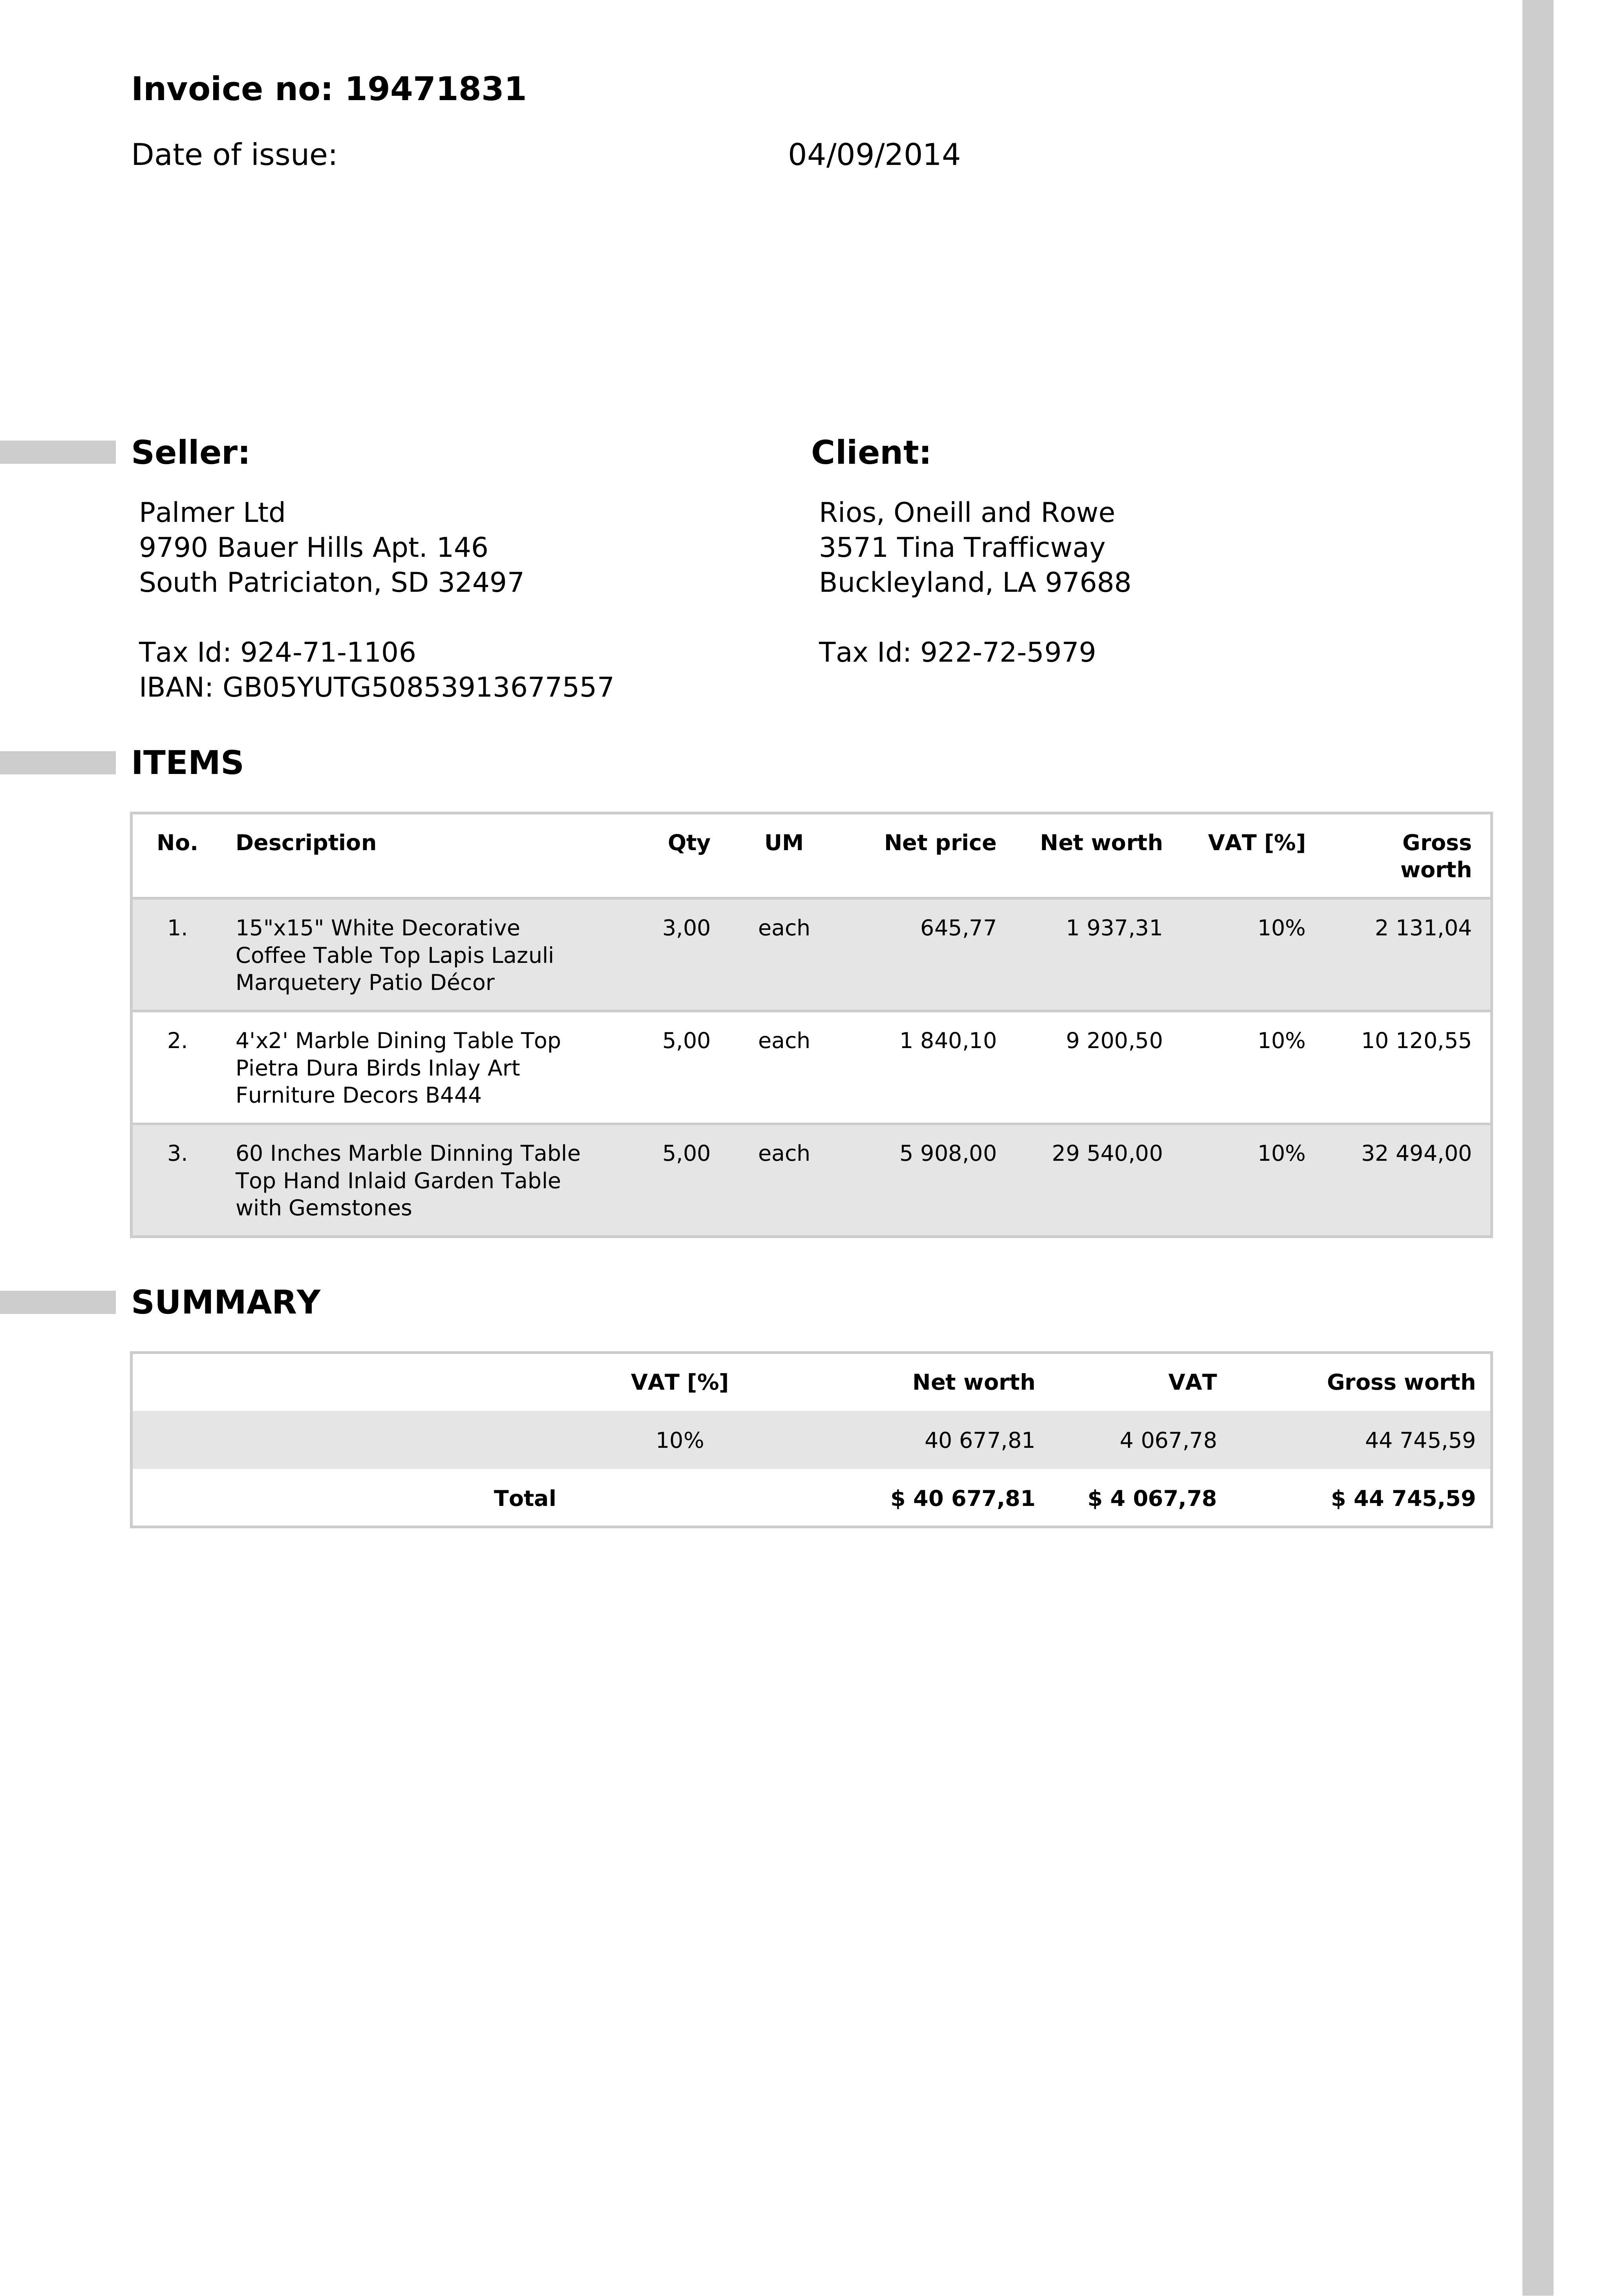column: (220, 815, 595, 1237), (1028, 812, 1187, 1242), (1196, 812, 1338, 1237), (871, 815, 1010, 1238), (1361, 817, 1493, 1233), (745, 815, 847, 1242), (643, 817, 731, 1238), (880, 1354, 1052, 1532), (1302, 1360, 1486, 1523), (1078, 1360, 1251, 1527), (615, 1347, 755, 1523), (488, 1349, 581, 1523)
